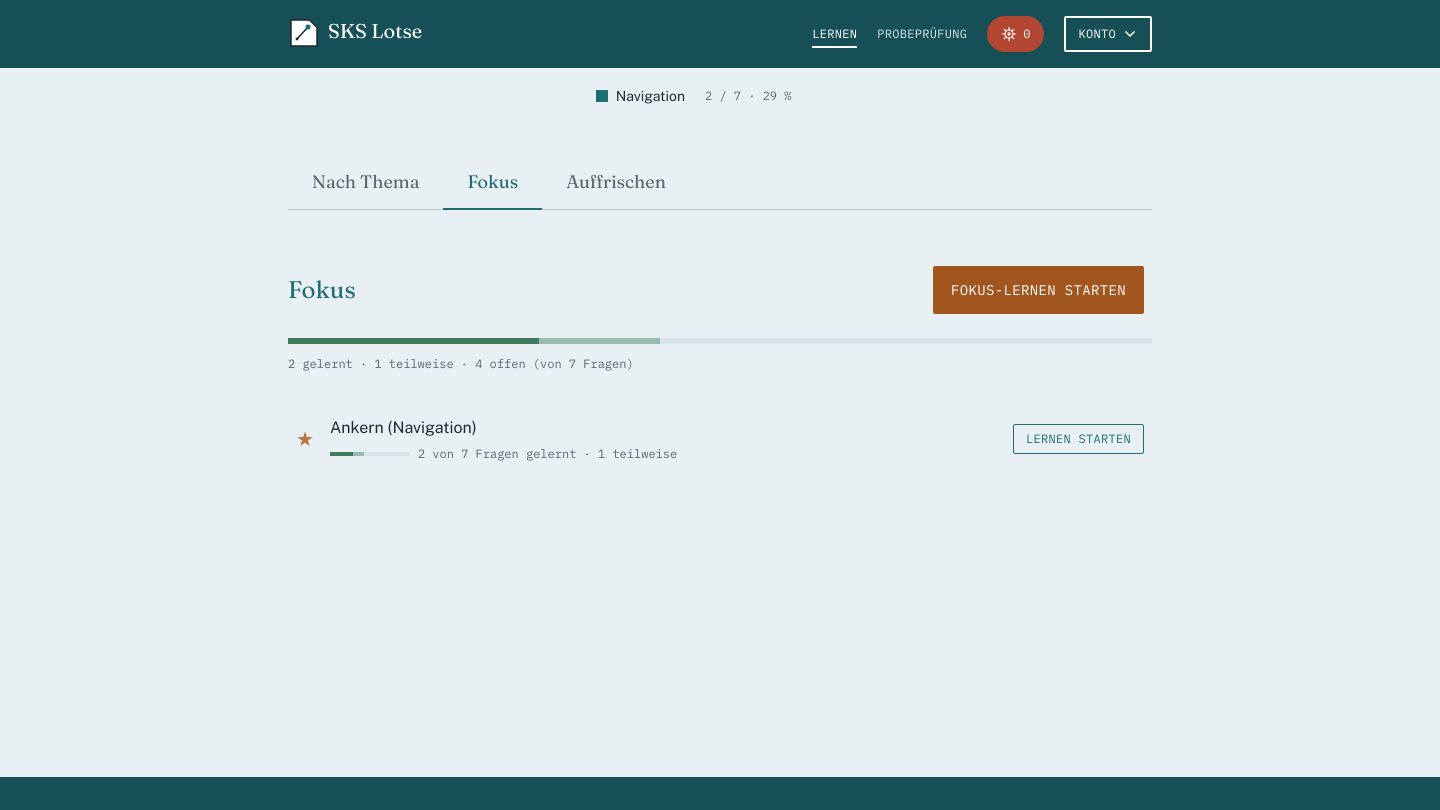
Test case: LearnPage › removes a Fokus topic with the star
(page scrolled)
Click the button named "Fokus entfernen: Ankern (Navigation)".
click(305, 439)  # box x1=292 y1=425 x2=318 y2=453
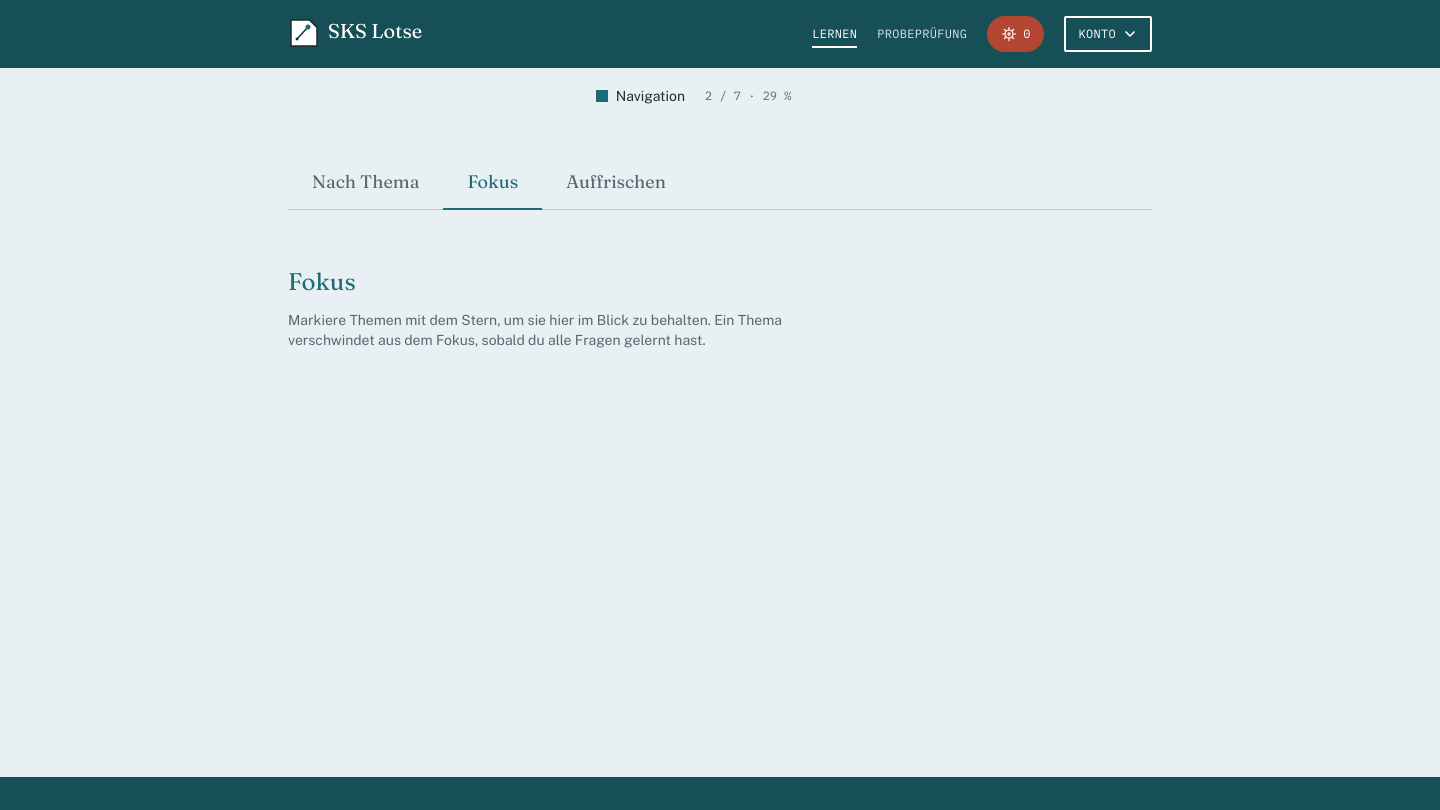
Check: the text "Markiere Themen mit dem Stern" is shown, box x1=288 y1=312 x2=782 y2=348
